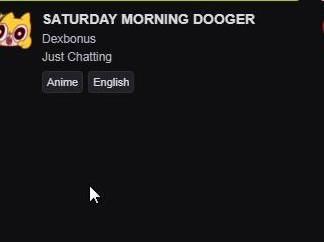cursor: (87, 184, 101, 206)
